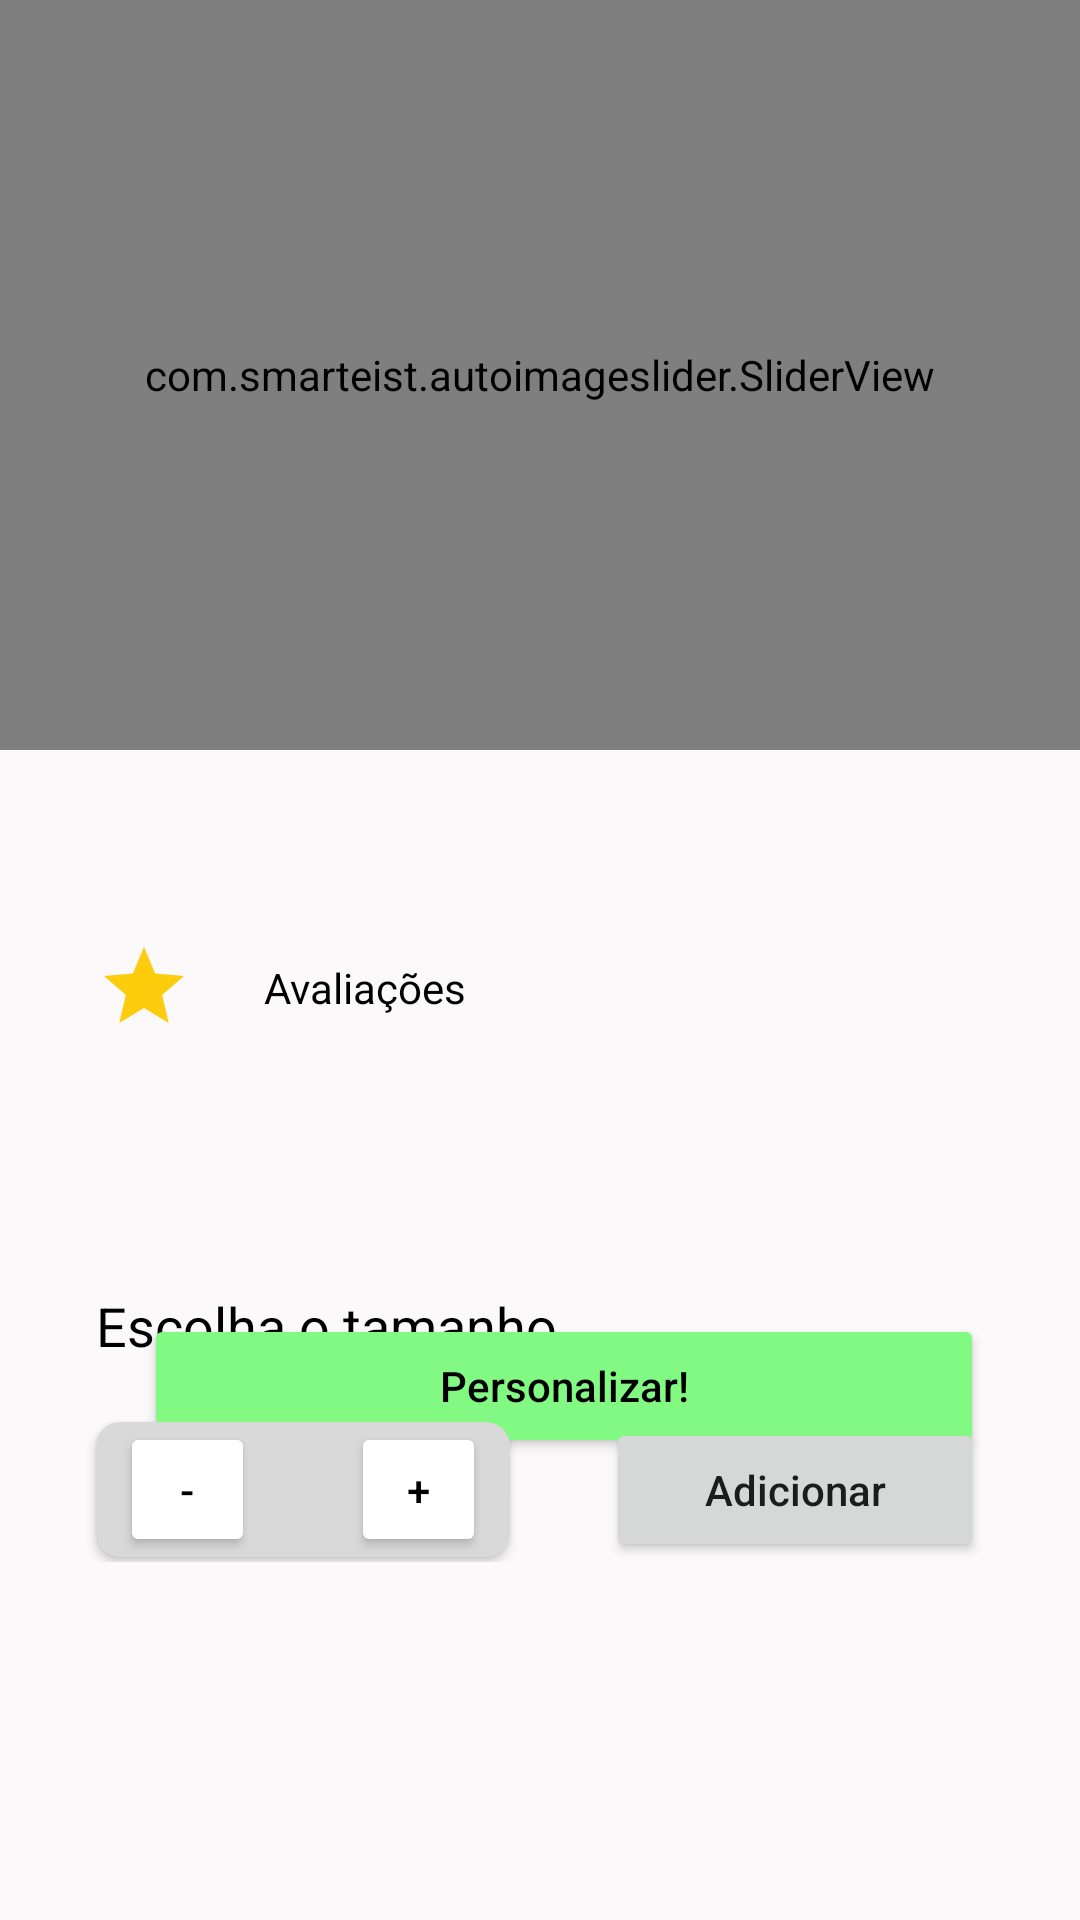

Icon bounding boxes for this 1080w x 1920h phone screenshot, format {"x1": x1, "y1": y1, "x2": x2, "y2": y2}:
star: {"x1": 104, "y1": 947, "x2": 184, "y2": 1023}
